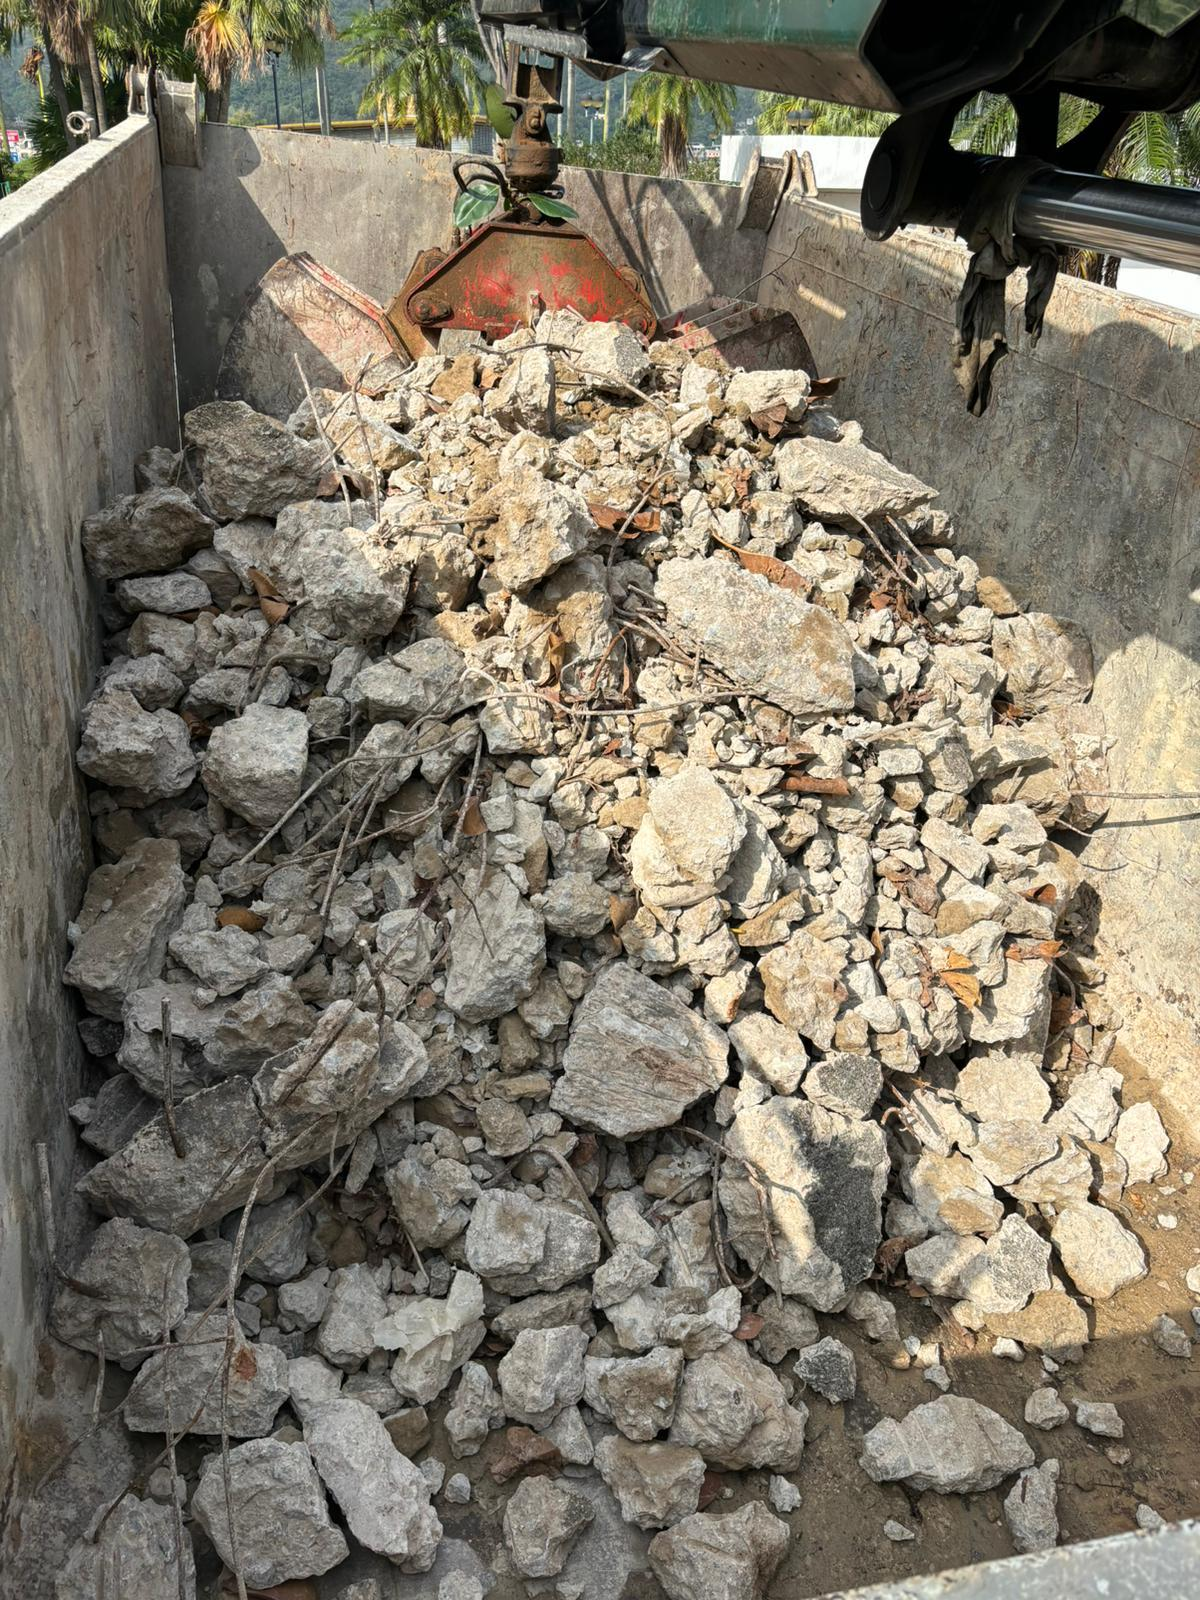dry: (115, 362, 1112, 1555)
